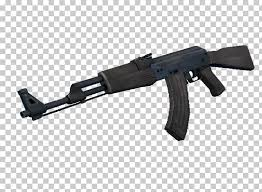gun: (16, 40, 254, 143)
